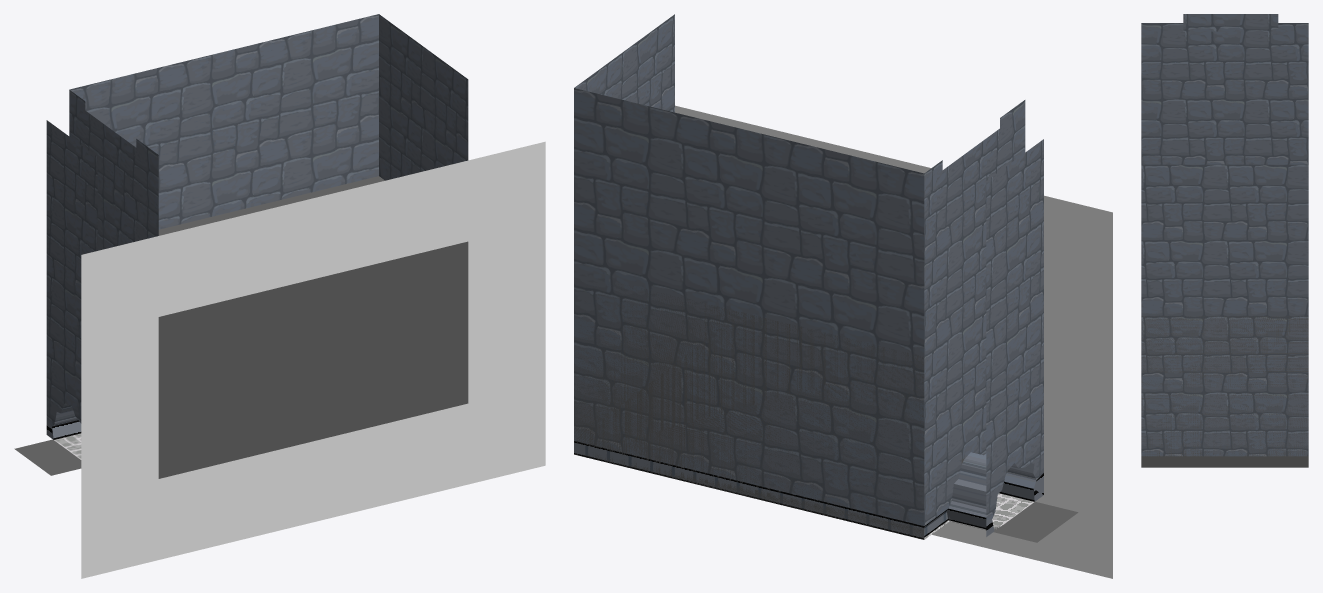
Rendered from gon_13.dae.
The picture shows the model from 3 angles, left to right: view 1: azimuth 30°, elevation 25°; view 2: azimuth 150°, elevation 25°; view 3: azimuth 270°, elevation 25°; orthographic projection. The views are drawn at different scales.
Visible parts, largest first — view 1: kuro8, pCube168_q00004, polySurface212_q00027_part0, polySurface161_q00005_part0, polySurface754_q00013_part0, polySurface754_q00014_part0, polySurface161_q00001_part0, pCube170_q00000; view 2: polySurface212_q00027_part0, polySurface161_q00005_part0, pCube168_q00004, kuro8, polySurface754_q00014_part0, polySurface161_q00001_part0, polySurface754_q00013_part0, polySurface212_q00027_part1, pCube170_q00000, polySurface753_q00010, polySurface161_q00001_part1; view 3: polySurface754_q00013_part0, polySurface161_q00001_part0, polySurface754_q00014_part0, pCube168_q00004, polySurface161_q00005_part0.
Part boxes in pixels (x1=…): kuro8: x1=81, y1=141, x2=545, y2=578; pCube168_q00004: x1=158, y1=176, x2=468, y2=478; polySurface212_q00027_part0: x1=69, y1=14, x2=378, y2=229; polySurface161_q00005_part0: x1=46, y1=110, x2=136, y2=426; polySurface754_q00013_part0: x1=379, y1=14, x2=468, y2=180; polySurface754_q00014_part0: x1=69, y1=90, x2=158, y2=241; polySurface161_q00001_part0: x1=46, y1=122, x2=134, y2=425; pCube170_q00000: x1=14, y1=439, x2=81, y2=475; polySurface212_q00027_part0: x1=574, y1=88, x2=924, y2=525; polySurface161_q00005_part0: x1=942, y1=128, x2=1043, y2=519; pCube168_q00004: x1=574, y1=284, x2=949, y2=539; kuro8: x1=675, y1=105, x2=1112, y2=578; polySurface754_q00014_part0: x1=924, y1=100, x2=1025, y2=525; polySurface161_q00001_part0: x1=942, y1=151, x2=1043, y2=515; polySurface754_q00013_part0: x1=574, y1=14, x2=674, y2=112; polySurface212_q00027_part1: x1=574, y1=441, x2=924, y2=539; pCube170_q00000: x1=950, y1=501, x2=1078, y2=542; polySurface753_q00010: x1=951, y1=493, x2=1033, y2=529; polySurface161_q00001_part1: x1=947, y1=473, x2=1043, y2=528; polySurface754_q00013_part0: x1=1141, y1=164, x2=1308, y2=456; polySurface161_q00001_part0: x1=1183, y1=14, x2=1278, y2=164; polySurface754_q00014_part0: x1=1141, y1=23, x2=1308, y2=164; pCube168_q00004: x1=1141, y1=316, x2=1308, y2=467; polySurface161_q00005_part0: x1=1183, y1=14, x2=1278, y2=164.
Bounding box in the file's own units: 60 × 50 × 20.
